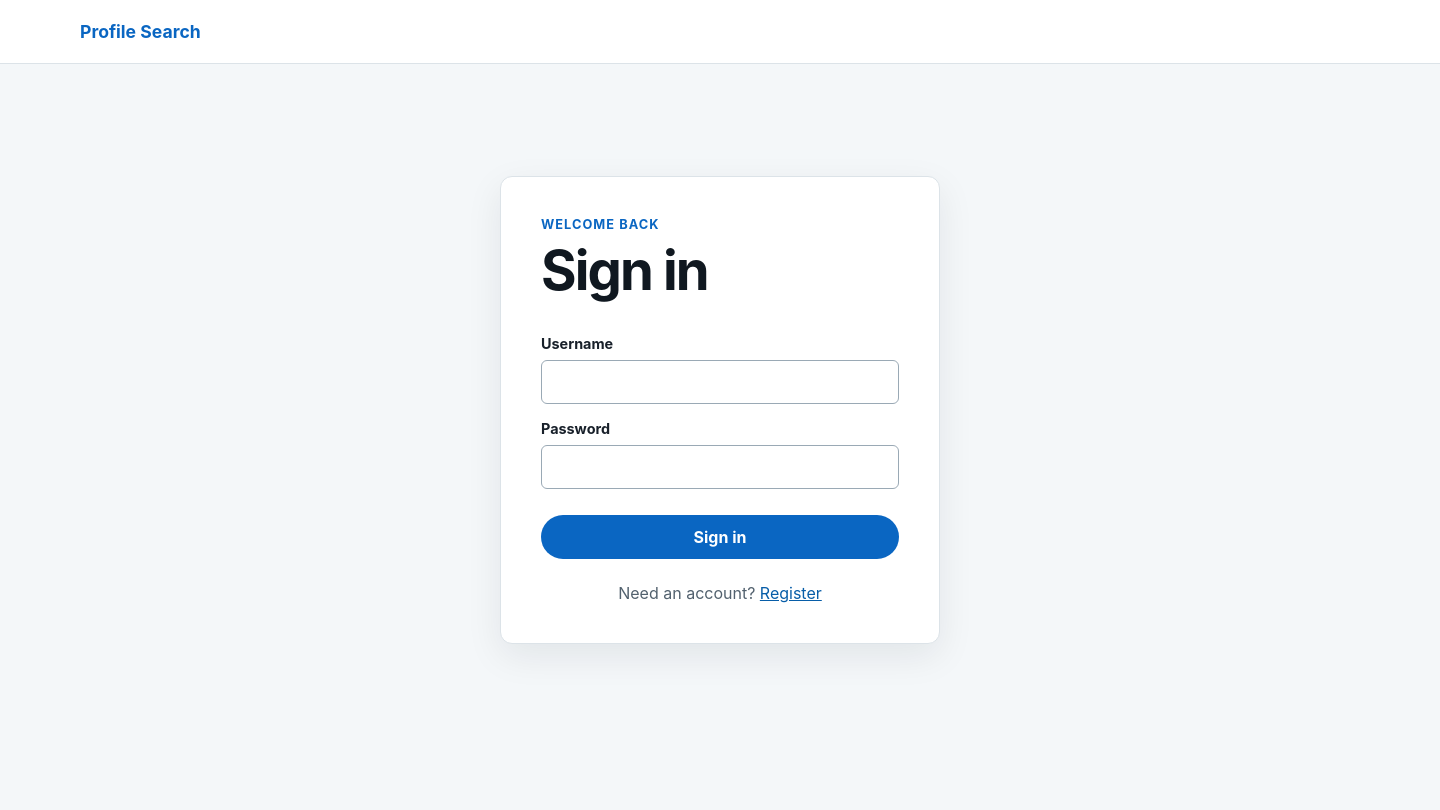
Test: a malformed server error is handled safely
Check: the heading "Sign in" is shown, box x1=541 y1=237 x2=708 y2=303
Type "reviewer" into the field labelled "Username" at (720, 382), box x1=541 y1=360 x2=899 y2=404
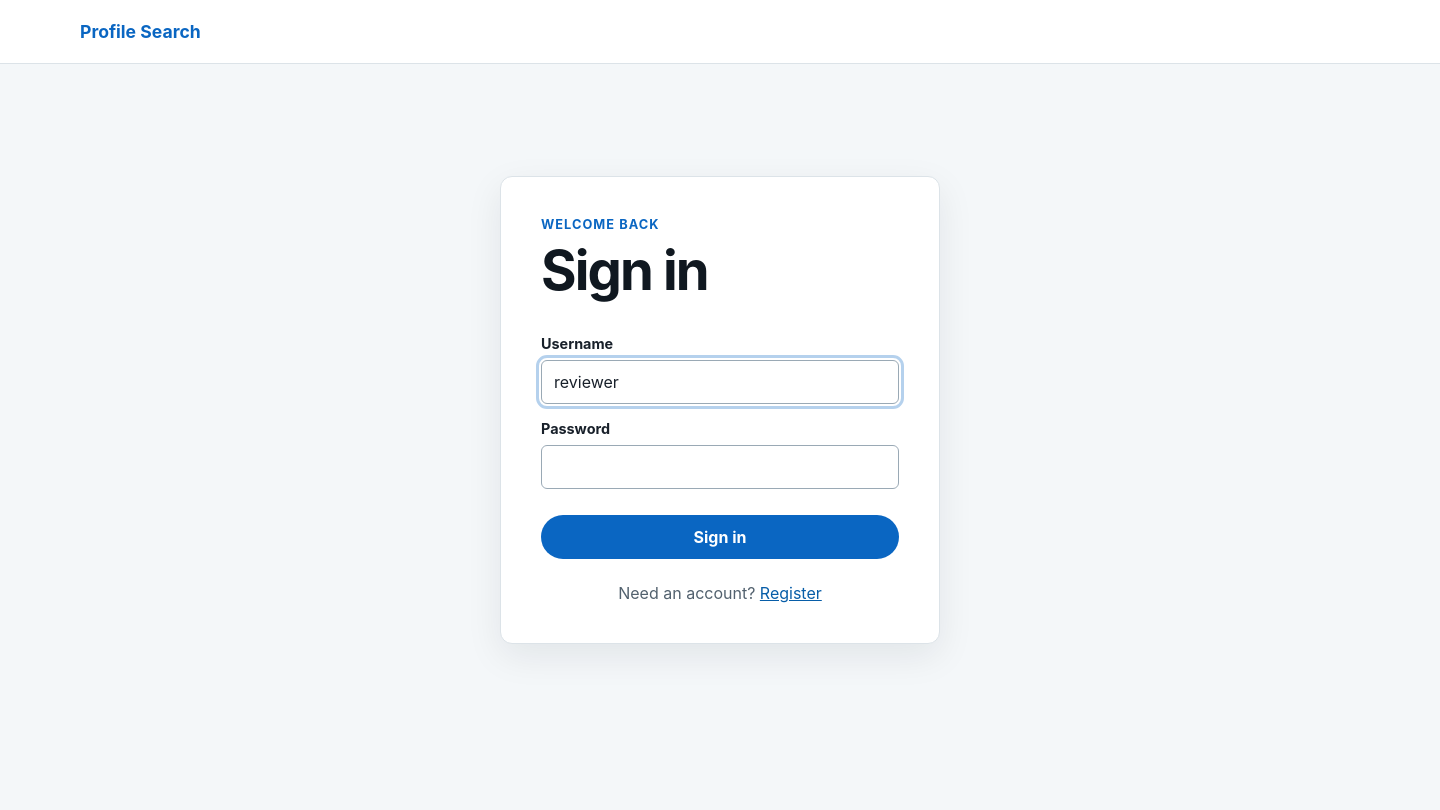
Type "password" into the password field labelled "Password" at (720, 467), box x1=541 y1=445 x2=899 y2=489
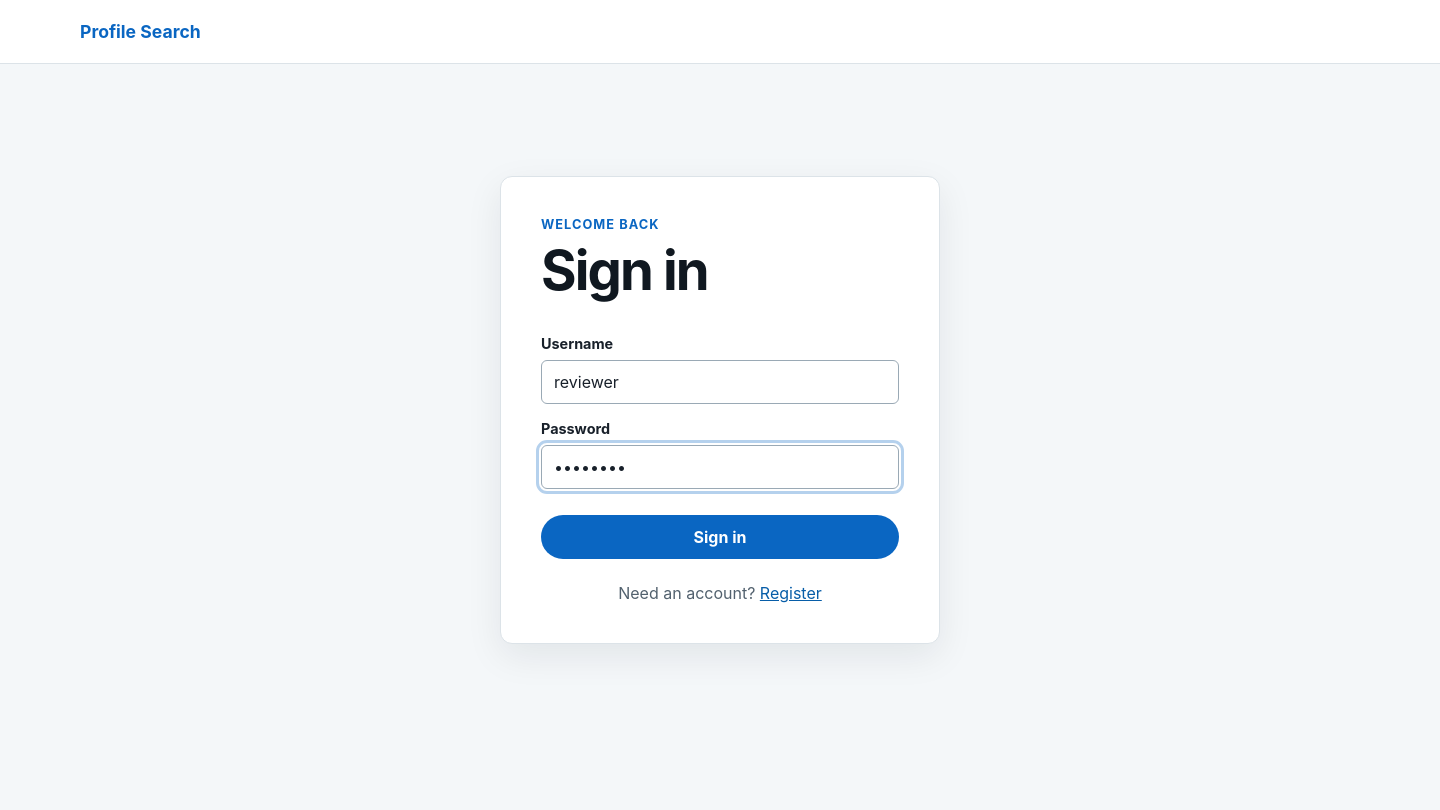
Click the button "Sign in" at (720, 537), box x1=541 y1=515 x2=899 y2=559
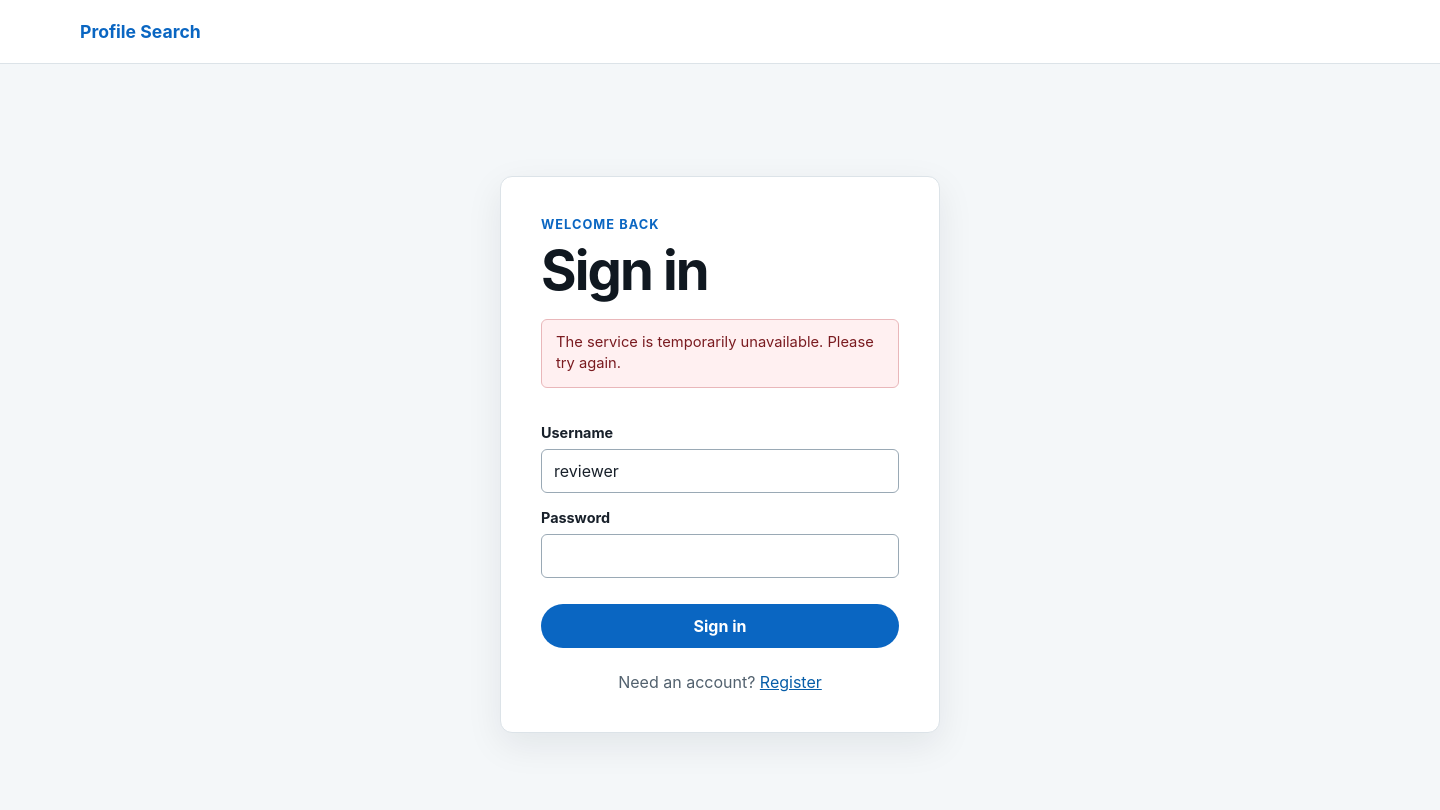
Check: the message reads "The service is temporarily unavailable. Please try again.", box x1=556 y1=333 x2=874 y2=372
